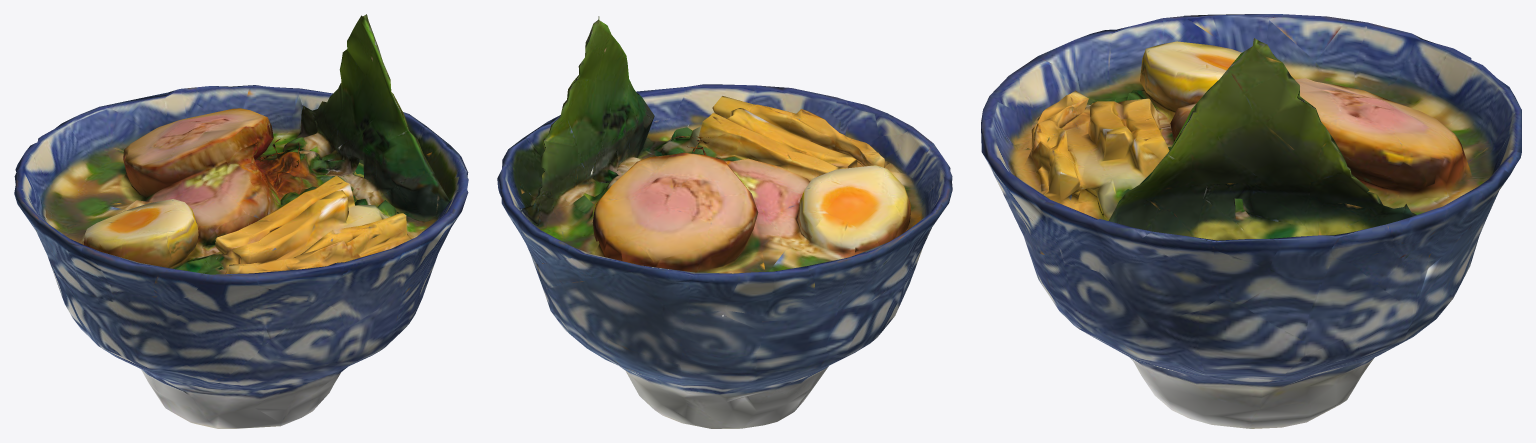
File: item-ramen-bowl.glb
The picture shows the model from 3 angles, left to right: view 1: azimuth 30°, elevation 25°; view 2: azimuth 150°, elevation 25°; view 3: azimuth 270°, elevation 25°; orthographic projection. The views are drawn at different scales.
Visible parts, largest first — view 1: item-ramen-bowl; view 2: item-ramen-bowl; view 3: item-ramen-bowl.
Boxes of the visible parts, x1=… form: item-ramen-bowl: x1=14, y1=14, x2=468, y2=428; item-ramen-bowl: x1=497, y1=16, x2=952, y2=428; item-ramen-bowl: x1=981, y1=14, x2=1521, y2=428.
Bounding box in the file's own units: 0.2 × 0.1741 × 0.2.
1 material, 1 textured.
